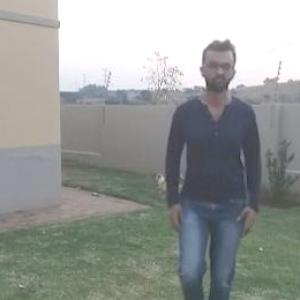follow: (168, 59, 251, 299)
